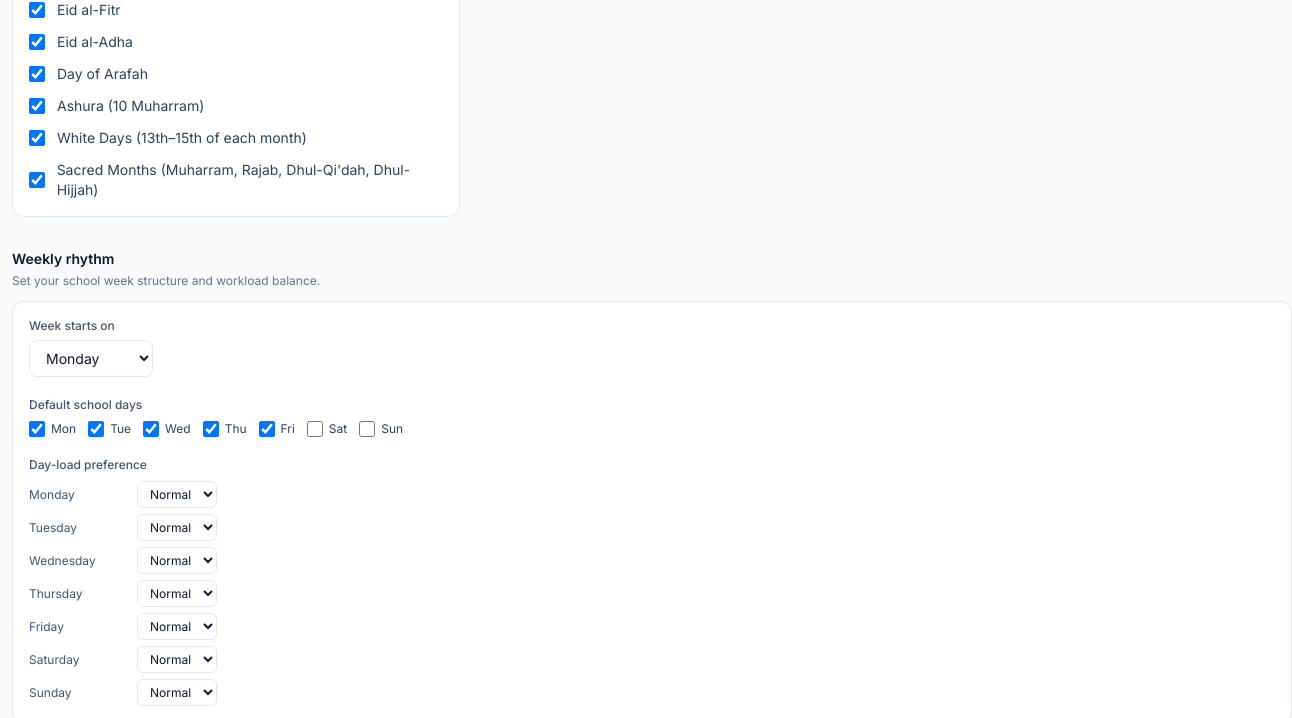
Test: HouseholdSettings — save › shows error message when save fails
(page scrolled)
Select "Sunday" in the dropdown labelled "Week starts on". click: [91, 358]
box: [29,340,153,377]
(page scrolled)
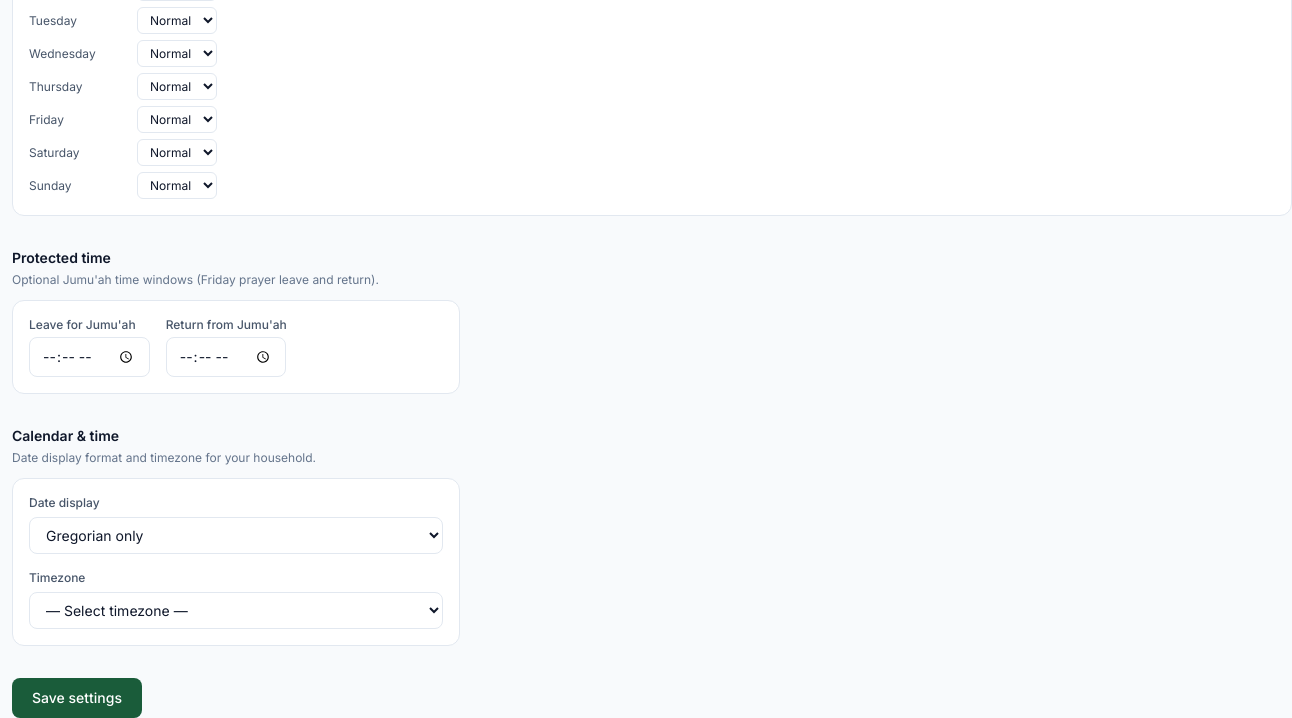
Click the button "Save settings". click: [77, 698]
box: [12,678,142,717]
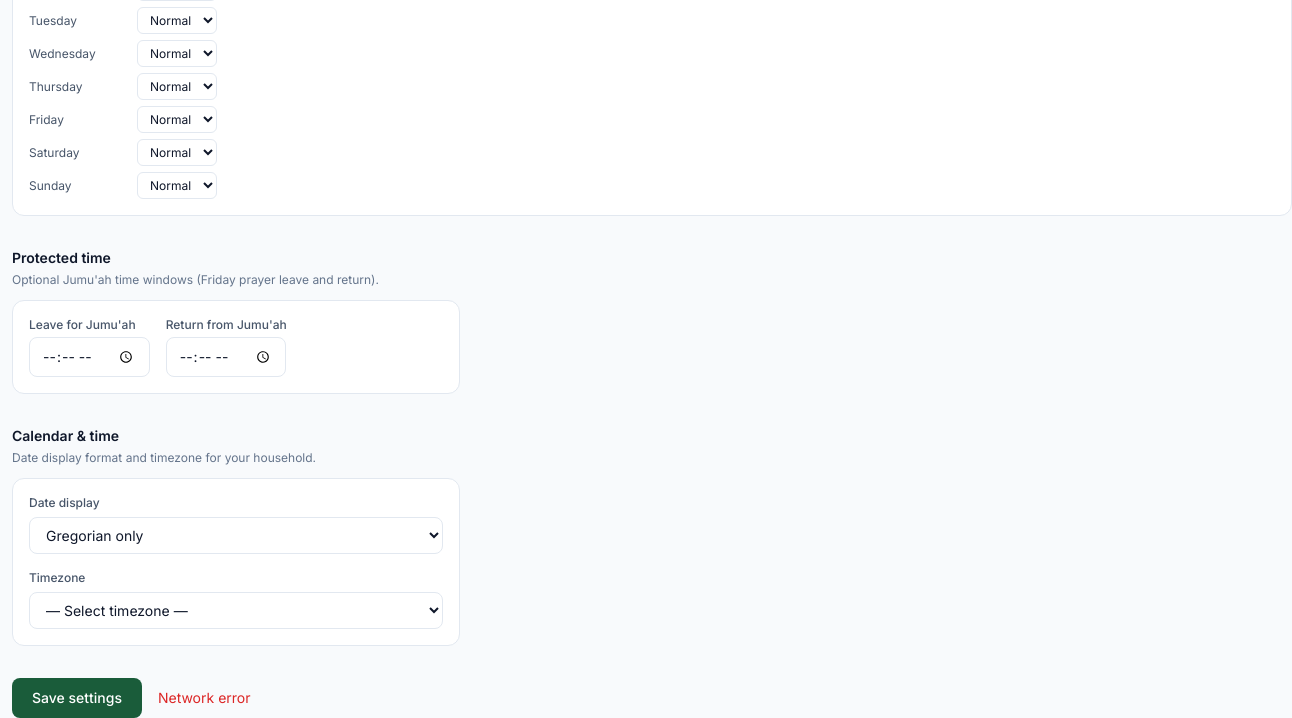
Now the text "Network error" is shown, box [158,688,250,708]
